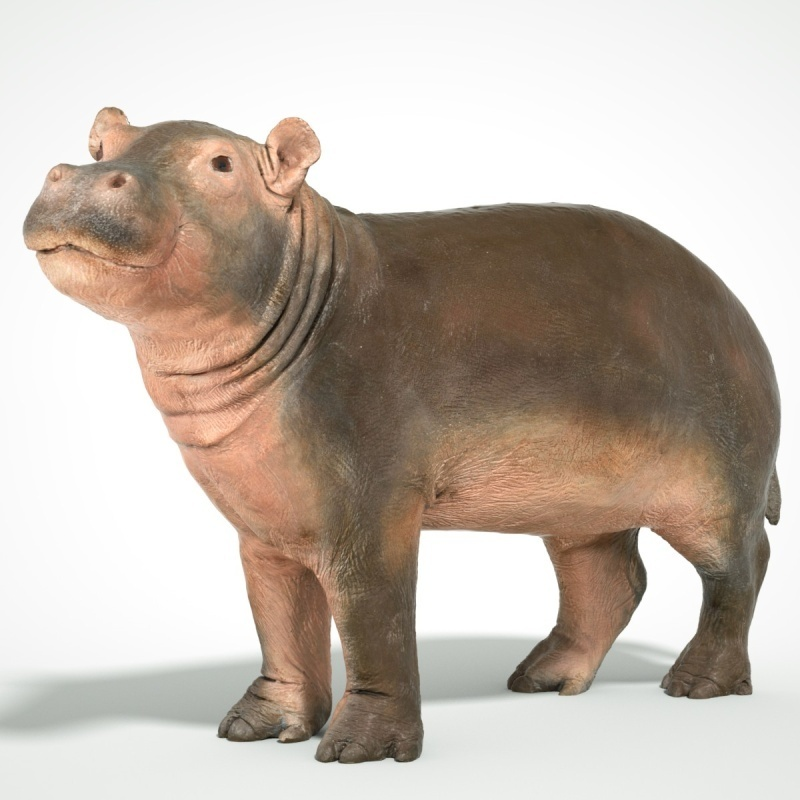hipopotamo: (20, 101, 786, 768)
